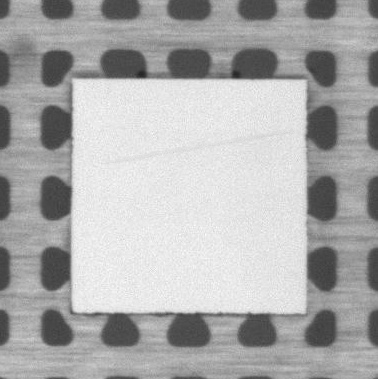DIE_CRACK: (107, 131, 292, 163)
